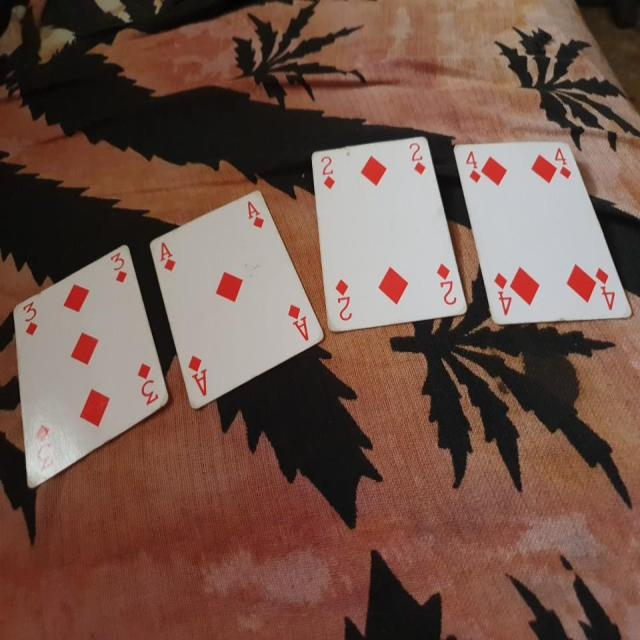2 Diamonds: (306, 131, 470, 337)
3 Diamonds: (7, 242, 174, 492)
4 Diamonds: (452, 140, 631, 326)
A Diamonds: (140, 184, 328, 415)
